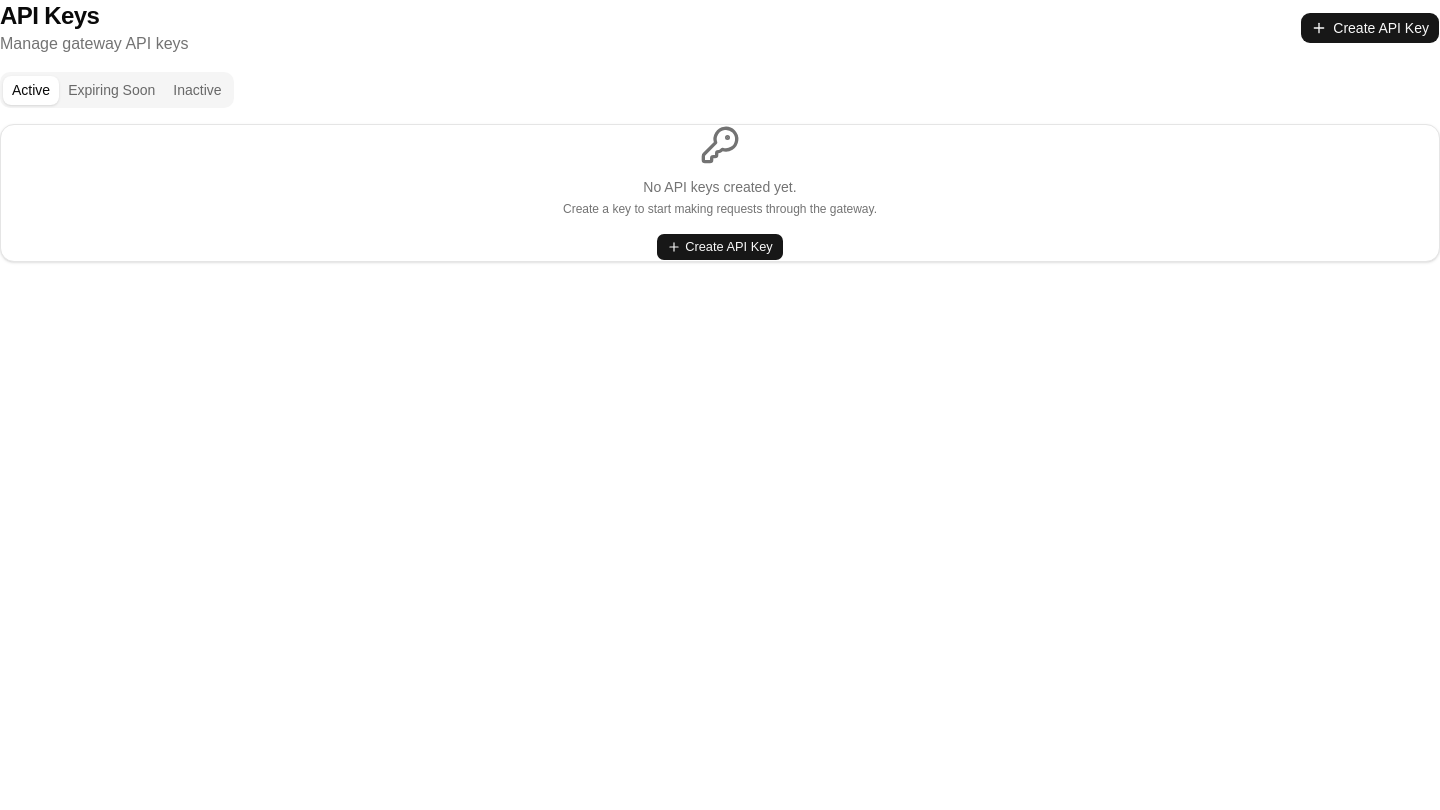
Test case: ApiKeysPage › names why a key without the AI gateway cannot be added to Lite
Click the button "Create API Key" in the row of "Manage gateway API keys": (1370, 28) [1300,12,1439,44]
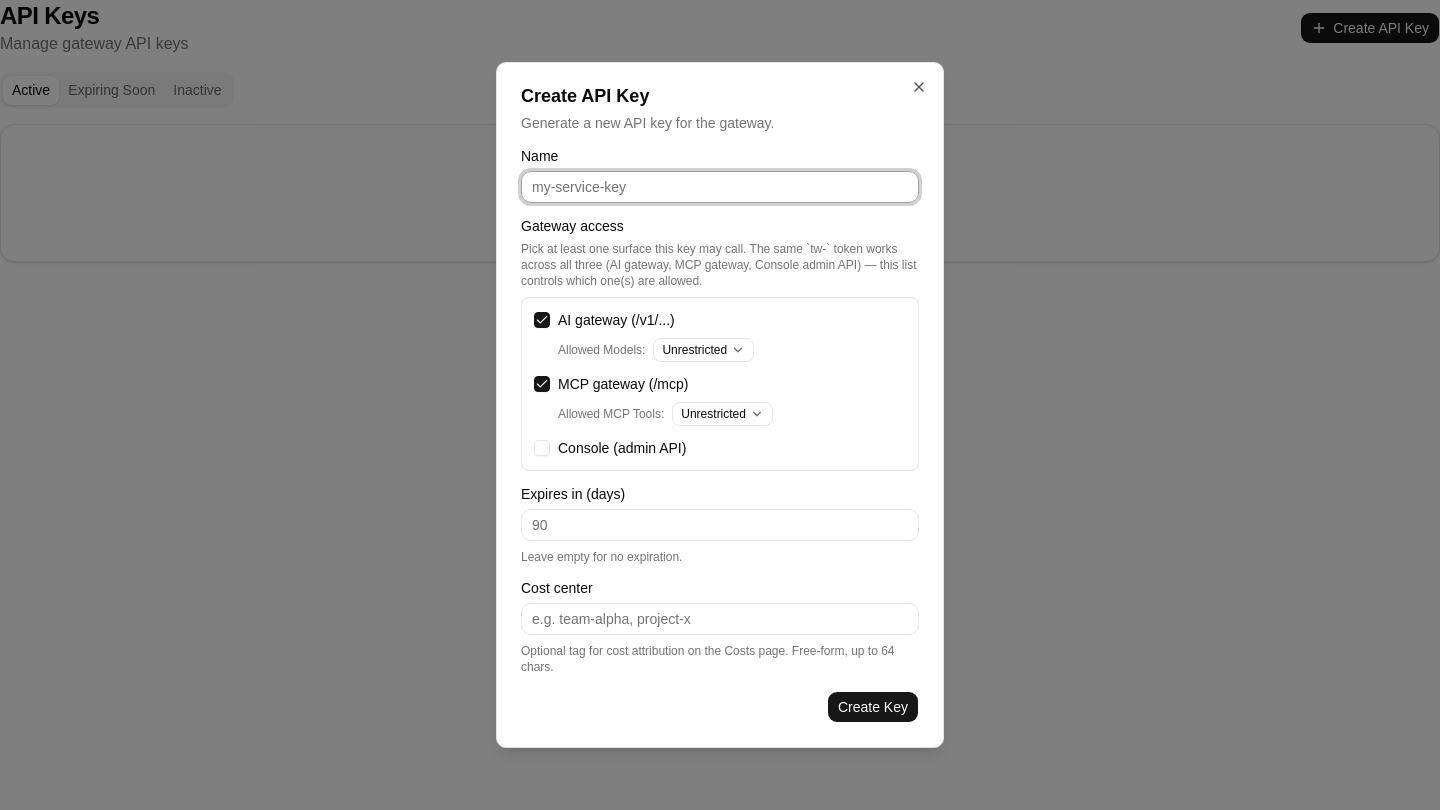
In the field labelled "Name": (720, 187) [521,171,919,203], type "tools only"
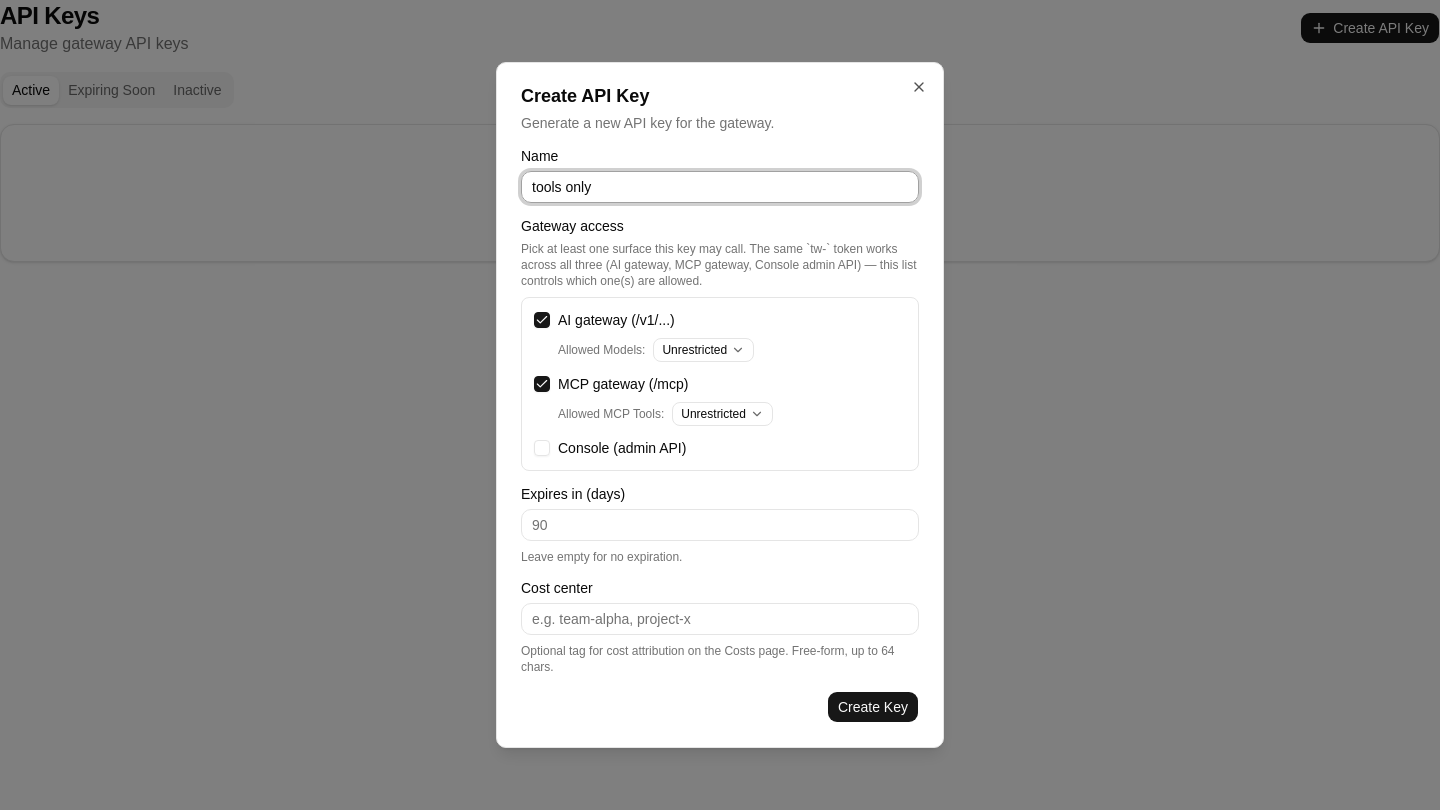
Click the checkbox named "AI gateway" next to "AI gateway (/v1/...)": (542, 320) [534,312,550,328]
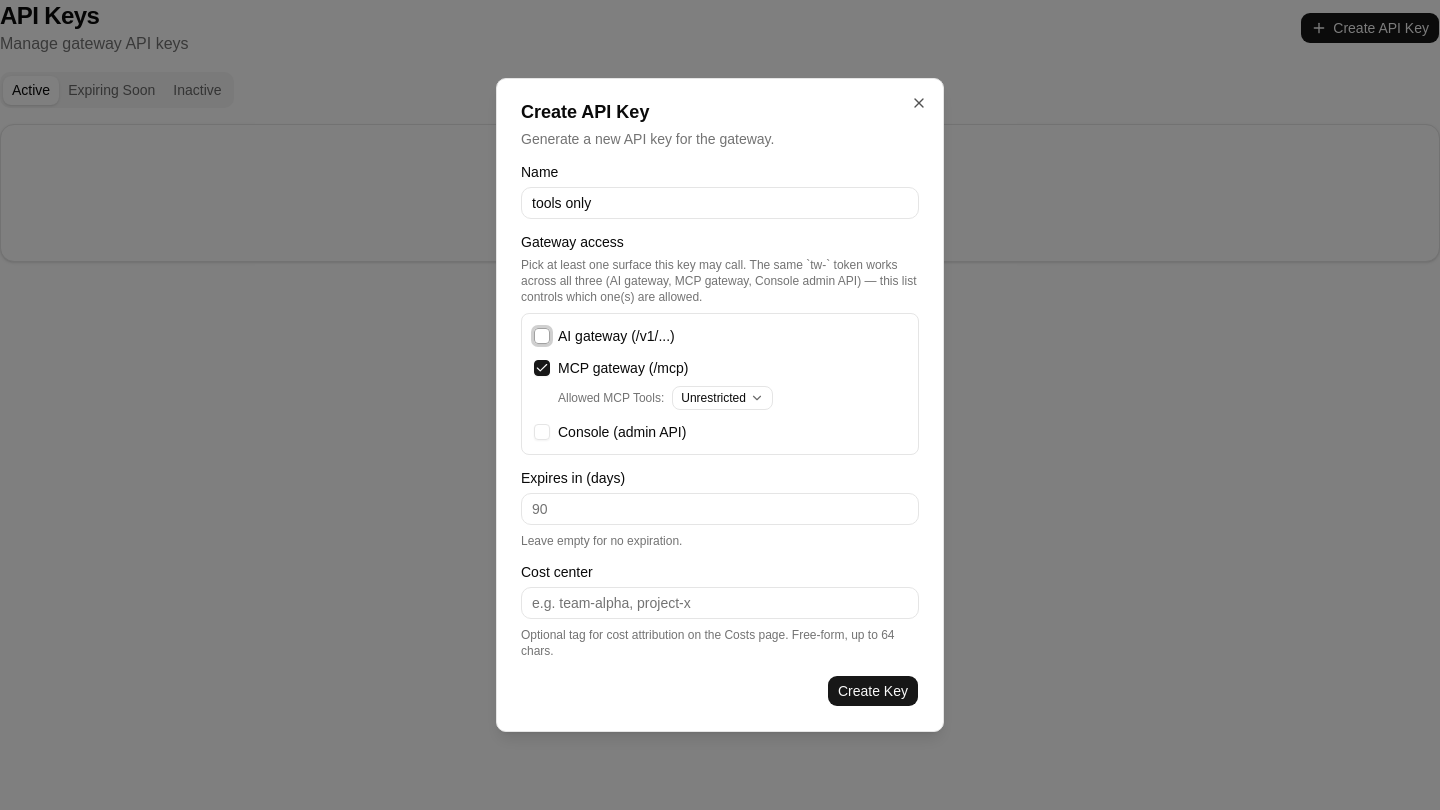
Click the button "Create Key": (873, 691) [827,675,919,707]
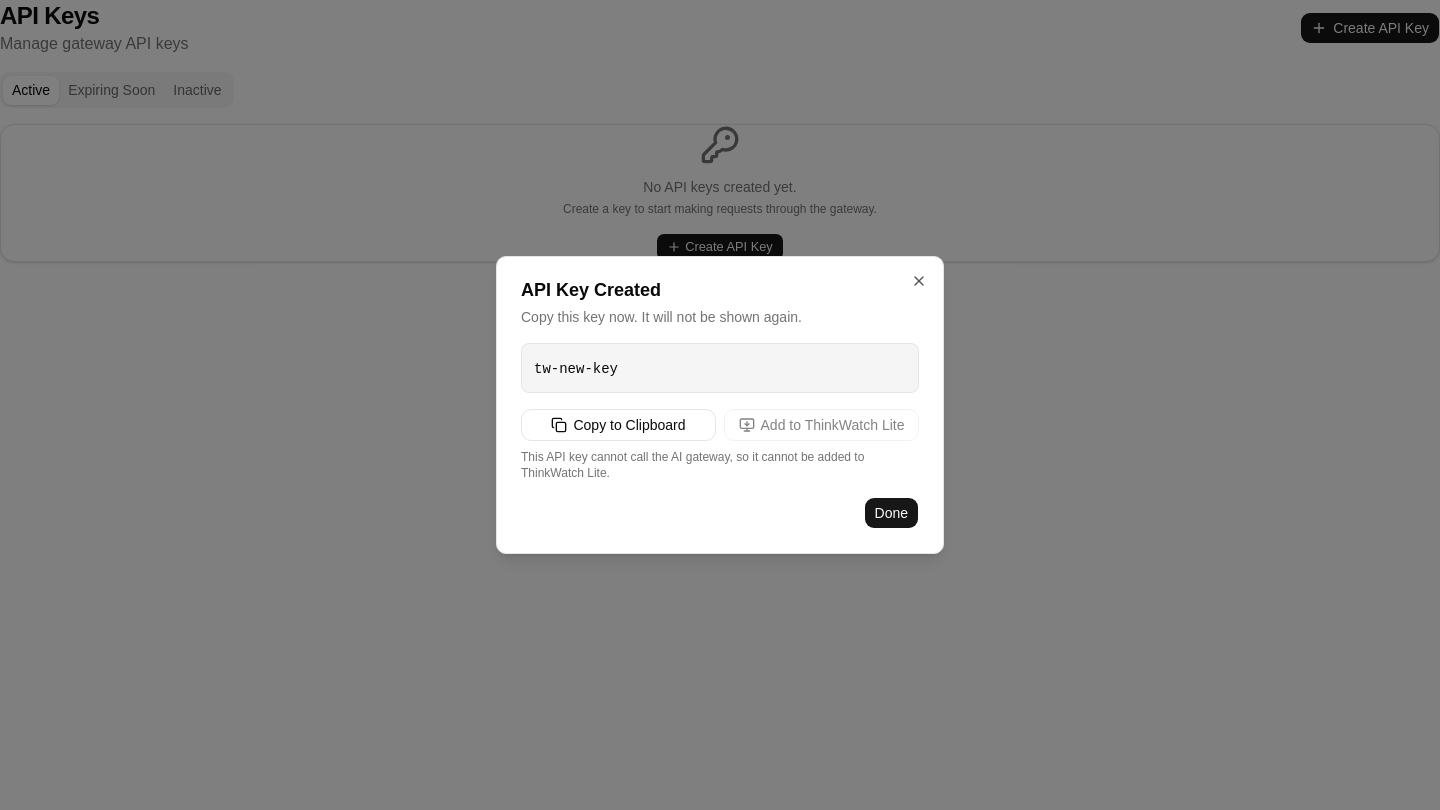
Expected: the button "Add to ThinkWatch Lite" is disabled, [724,409,919,441]
